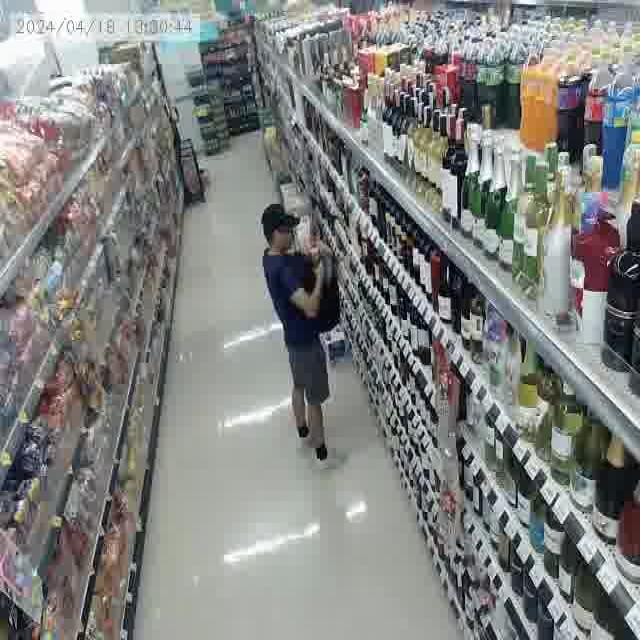shoplifting: (255, 189, 349, 472)
